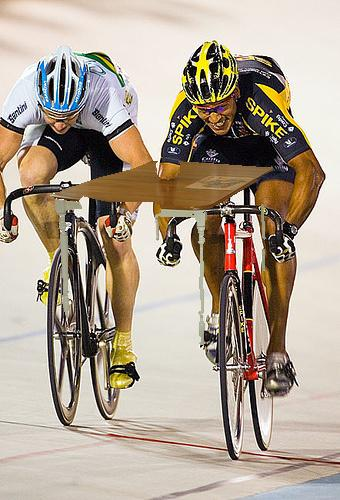tampered: (51, 162, 273, 345)
